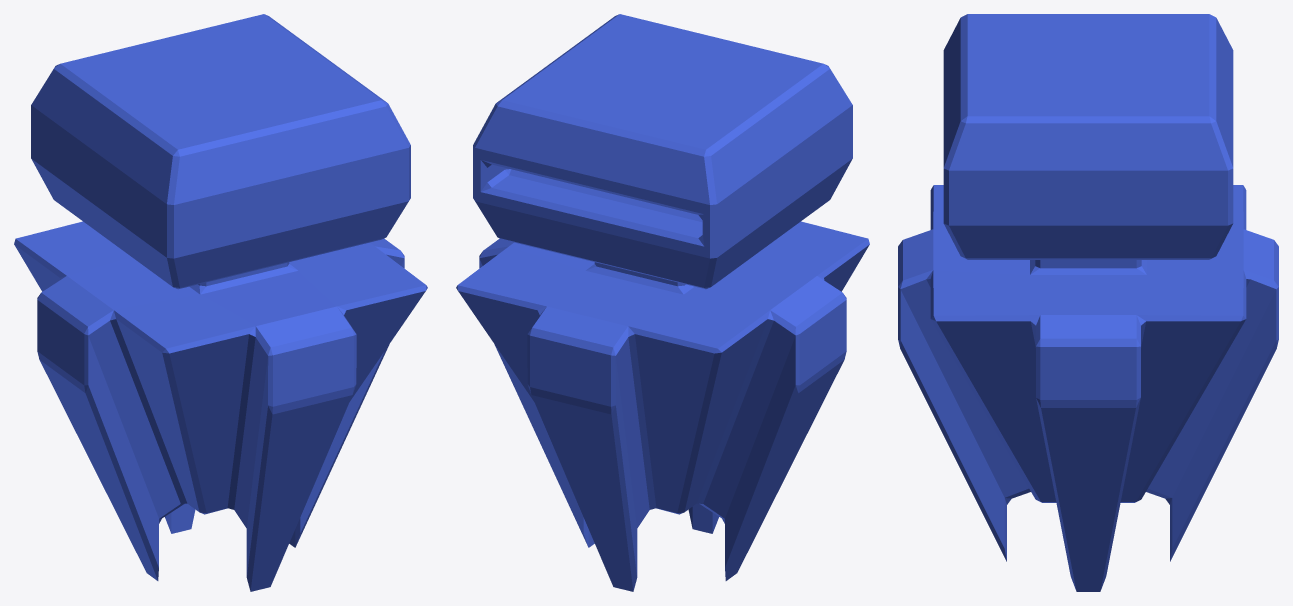
The model's file is joueurbleu.fbx.
3 renders of one model, left to right at view 1: azimuth 30°, elevation 25°; view 2: azimuth 150°, elevation 25°; view 3: azimuth 270°, elevation 25°, orthographic. The views are drawn at different scales.
Visible parts, largest first — view 1: Cube; view 2: Cube; view 3: Cube.
Boxes of the visible parts, x1,y1,x2,y2 form: Cube: (14,14,427,591); Cube: (456,14,869,591); Cube: (898,14,1278,591).
Bounding box in the file's own units: 238 × 238 × 340.
